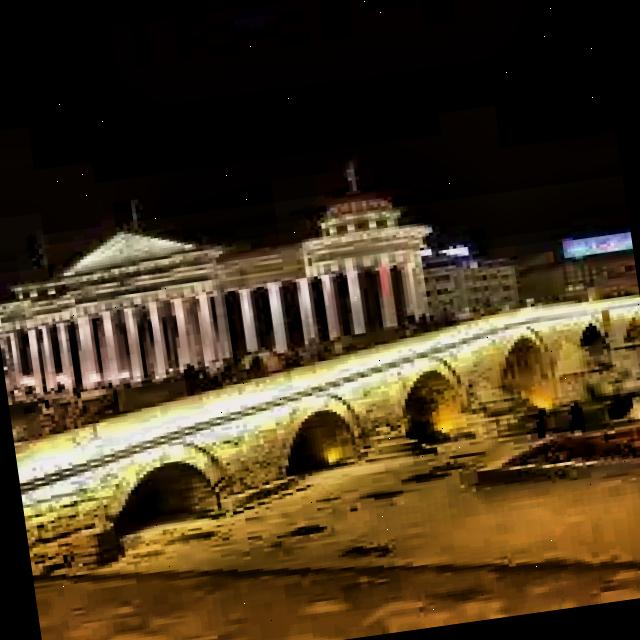stone bridge: (4, 283, 640, 585)
